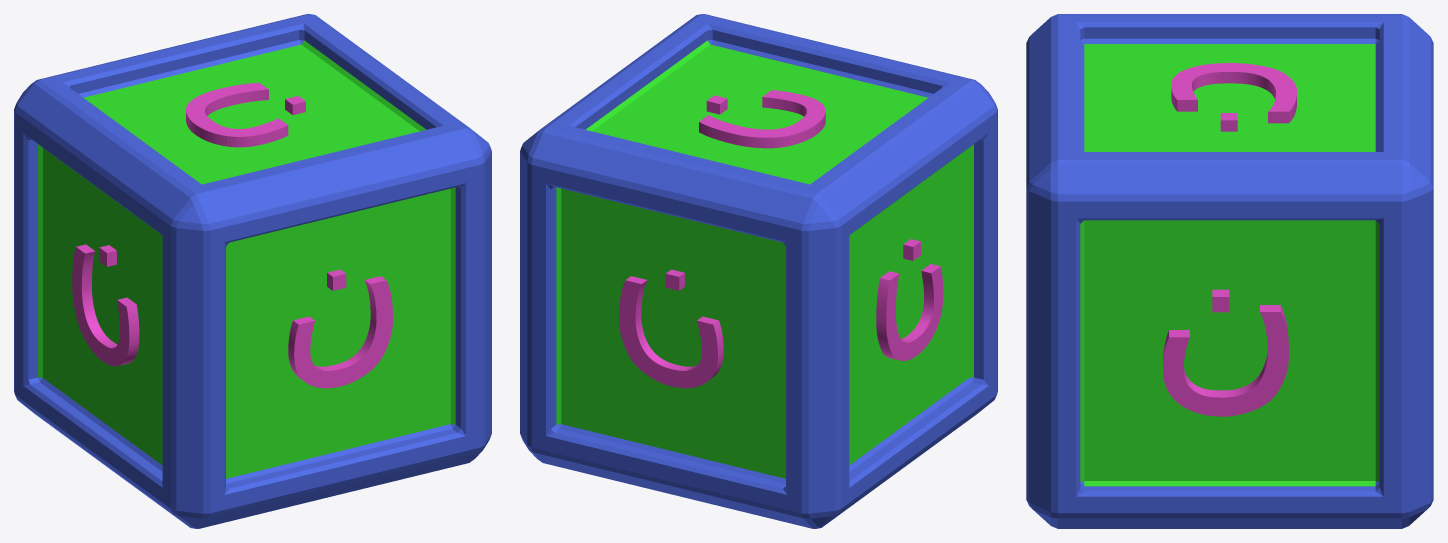
3 renders of one model, left to right at view 1: azimuth 30°, elevation 25°; view 2: azimuth 150°, elevation 25°; view 3: azimuth 270°, elevation 25°, orthographic. The views are drawn at different scales.
Parts seen in each view (by area): view 1: Text.004; view 2: Text.004; view 3: Text.004.
Boxes of the visible parts, x1,y1,x2,y2 form: Text.004: (14, 14, 491, 528); Text.004: (520, 14, 997, 528); Text.004: (1026, 14, 1433, 528).
Size of the model in its own units: 15 by 15 by 15.
